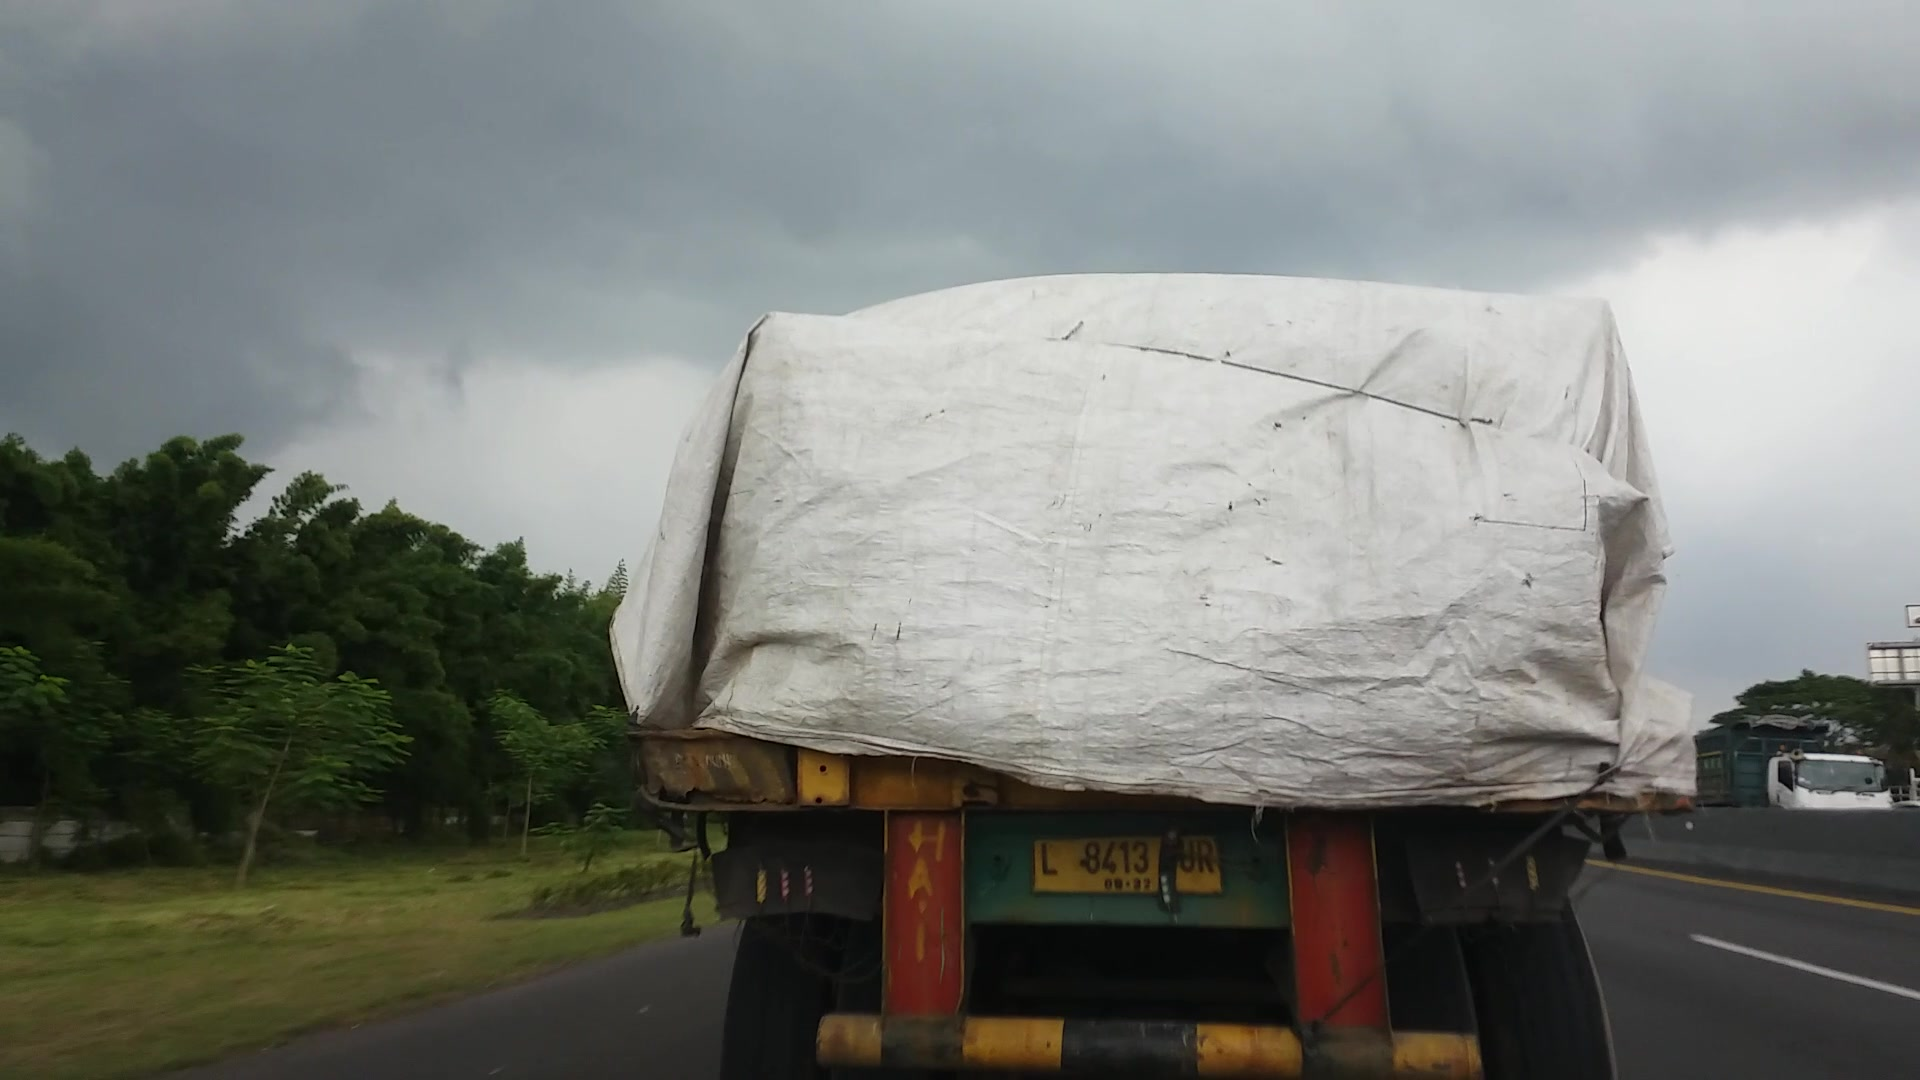plate_positive: (1031, 833, 1222, 895)
